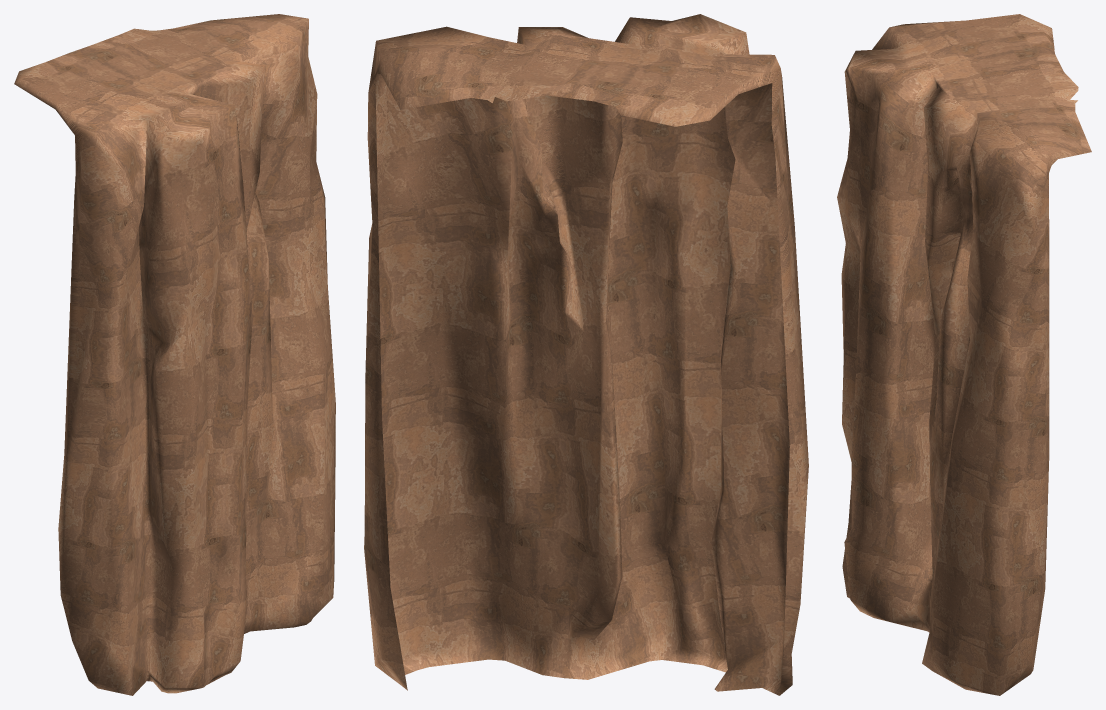
The model's file is Ob_RockCliff14.fbx.
3 renders of one model, left to right at view 1: azimuth 30°, elevation 25°; view 2: azimuth 150°, elevation 25°; view 3: azimuth 270°, elevation 25°, orthographic. The views are drawn at different scales.
Parts seen in each view (by area): view 1: Ob_RockCliff14; view 2: Ob_RockCliff14; view 3: Ob_RockCliff14.
Part boxes in pixels (box(x1,y1,x2,y2)): Ob_RockCliff14: box(14, 14, 335, 695); Ob_RockCliff14: box(364, 14, 808, 695); Ob_RockCliff14: box(837, 14, 1091, 695).
Size of the model in its own units: 37873 by 63253 by 26614.
